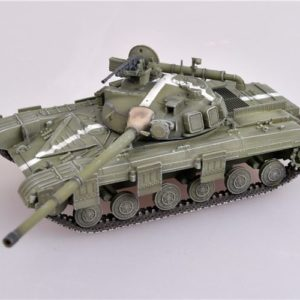Battle Tank: (2, 54, 300, 249)
